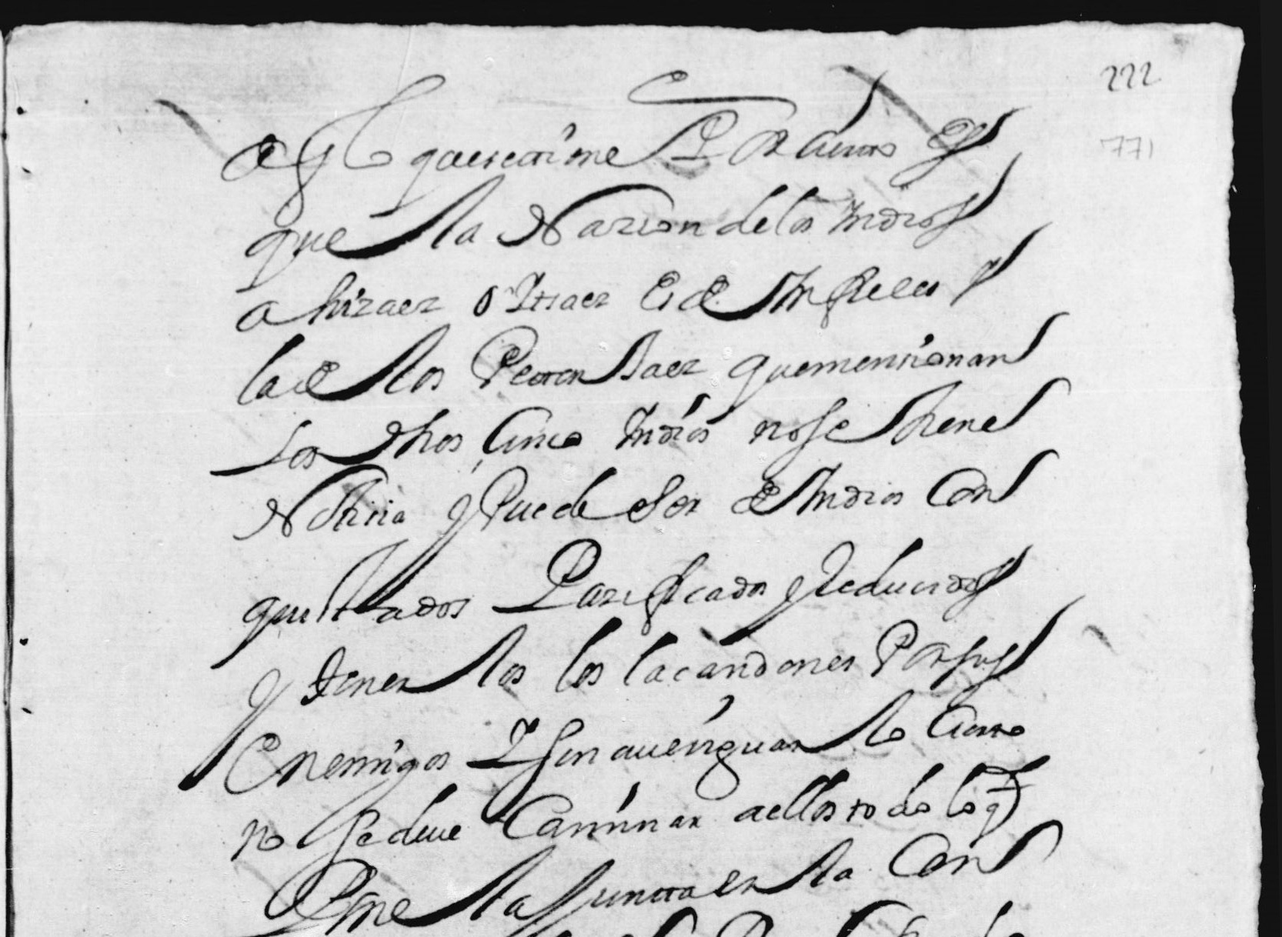lacandon: (623, 631, 855, 685)
